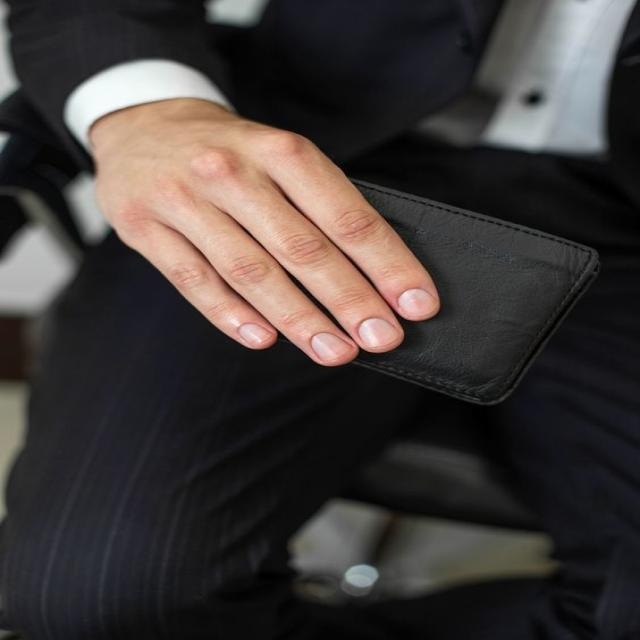Fingernail: (312, 333, 351, 362), (359, 318, 397, 347), (399, 290, 434, 316), (240, 324, 270, 345)
